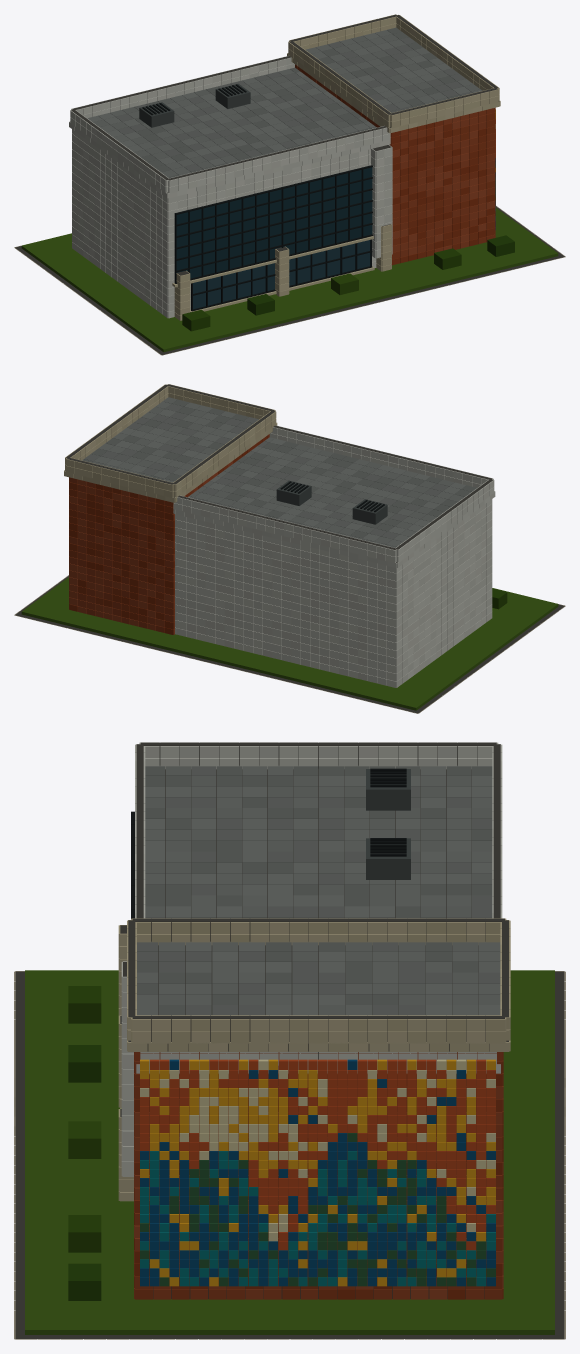
File: SM_Mapa_061.fbx
3 renders of one model, top to bottom at view 1: azimuth 30°, elevation 25°; view 2: azimuth 150°, elevation 25°; view 3: azimuth 270°, elevation 25°, orthographic. The views are drawn at different scales.
Parts seen in each view (by area): view 1: SM_Mapa_061; view 2: SM_Mapa_061; view 3: SM_Mapa_061.
Part boxes in pixels (<box>): SM_Mapa_061: <box>14,14,565,355</box>; SM_Mapa_061: <box>14,384,565,713</box>; SM_Mapa_061: <box>14,742,565,1339</box>.
Bounding box in the file's own units: 24 × 15.19 × 8.75.
